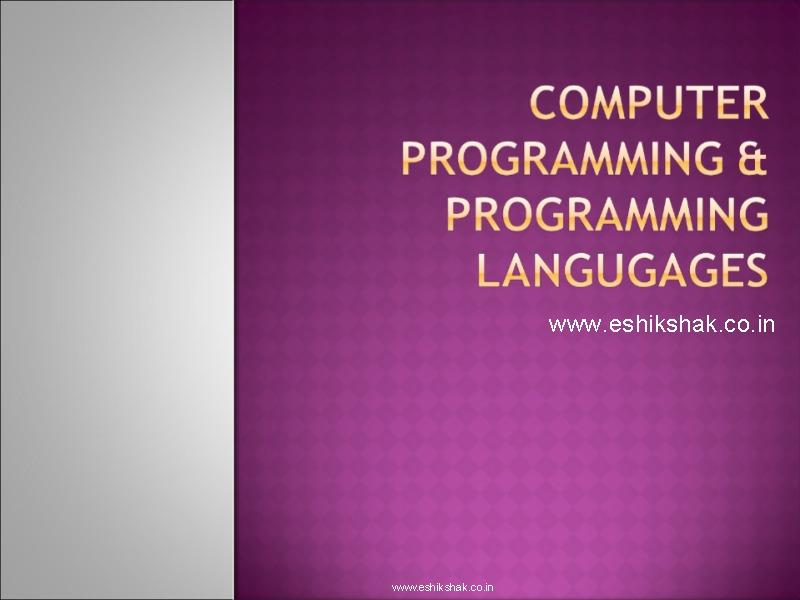title: (390, 53, 784, 308)
